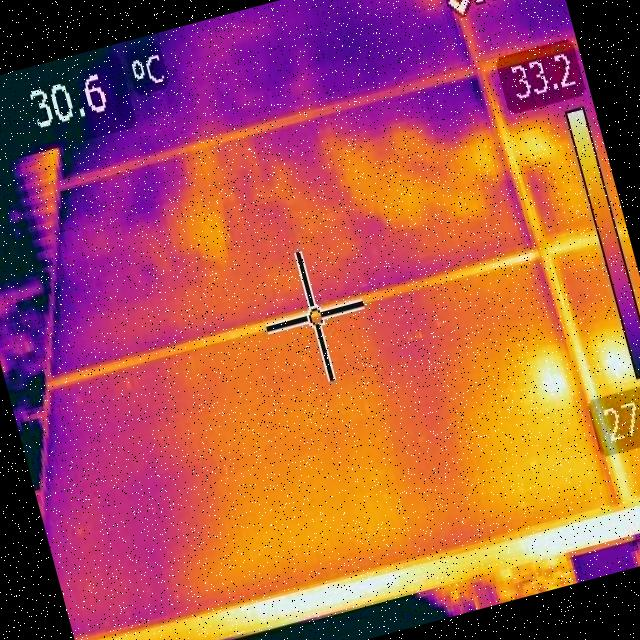Hotspot: (528, 335, 582, 416), (584, 314, 637, 394), (507, 110, 559, 172)
